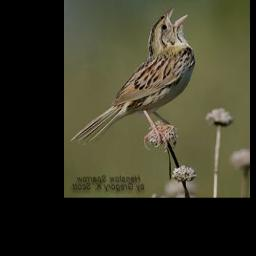Sparrow: (67, 4, 197, 156)
